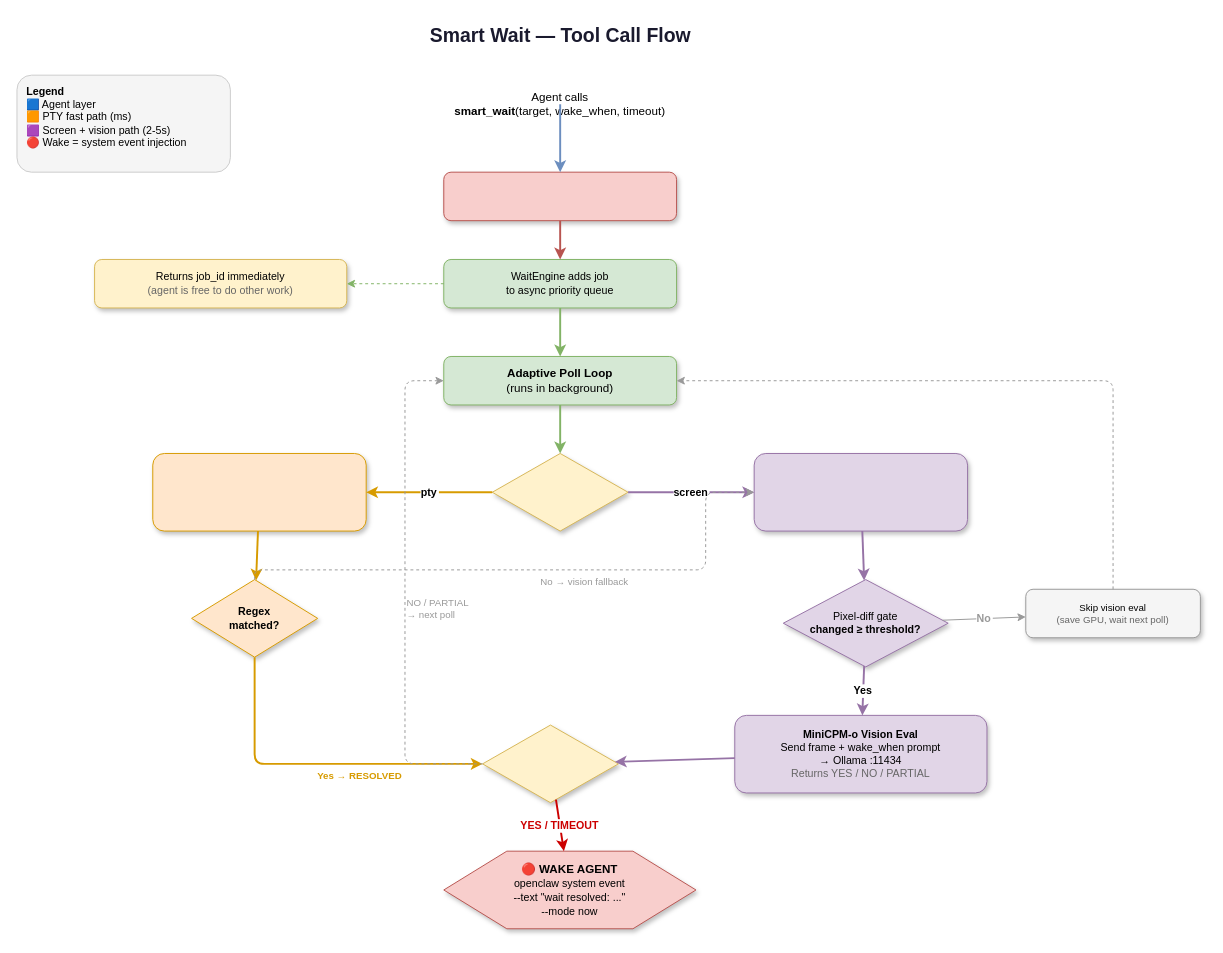
The diagram is 1223 pixels wide and 953 high, and some of its shapes have lost their labels. The centre of each missing label's shape, as x and y in pixels:
Capture Screen python-xlib → Xvfb :99 1920×1080 screenshot: point 861,493
MCP Proxy forwards to daemon HTTP :18790: point 560,197
PTY Fast Path Read terminal buffer Match regex patterns (npm, git, pip, make...): point 260,493
target?: point 560,493
Verdict?: point 551,764
